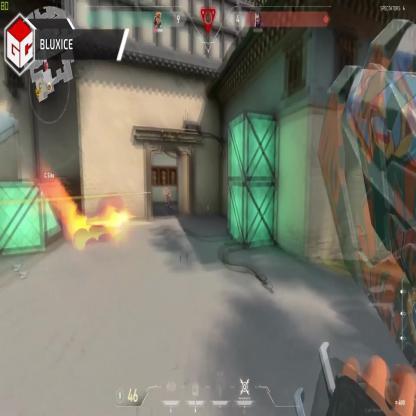enemy: (165, 188, 172, 217)
enemy_head: (166, 188, 170, 193)
